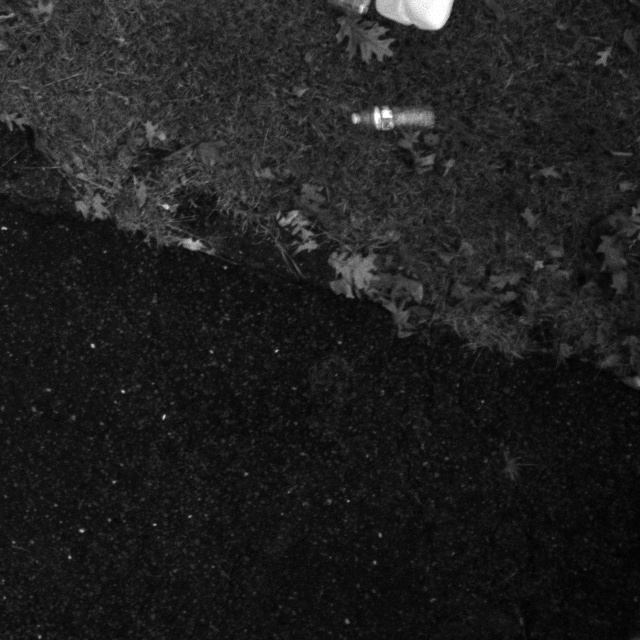bottle: (345, 93, 445, 133)
